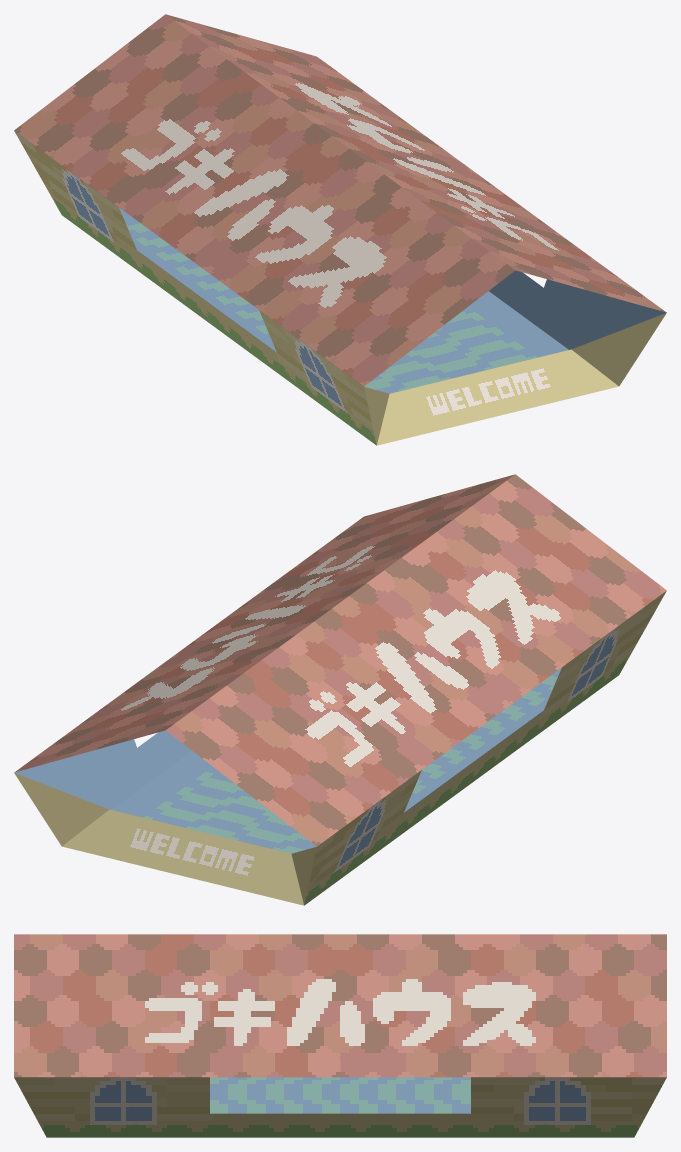
Rendered from 010f_Roach_Motel.glb.
The picture shows the model from 3 angles, top to bottom: view 1: azimuth 30°, elevation 25°; view 2: azimuth 150°, elevation 25°; view 3: azimuth 270°, elevation 25°; orthographic projection. The views are drawn at different scales.
Parts seen in each view (by area): view 1: part_0; view 2: part_0; view 3: part_0.
Part boxes in pixels (left/top/right/bottom): part_0: left=14, top=14, right=666, bottom=445; part_0: left=14, top=474, right=666, bottom=905; part_0: left=14, top=934, right=666, bottom=1137.
Bounding box in the file's own units: 0.1 × 0.05 × 0.2.
Materials: 1 (1 with a texture image).
